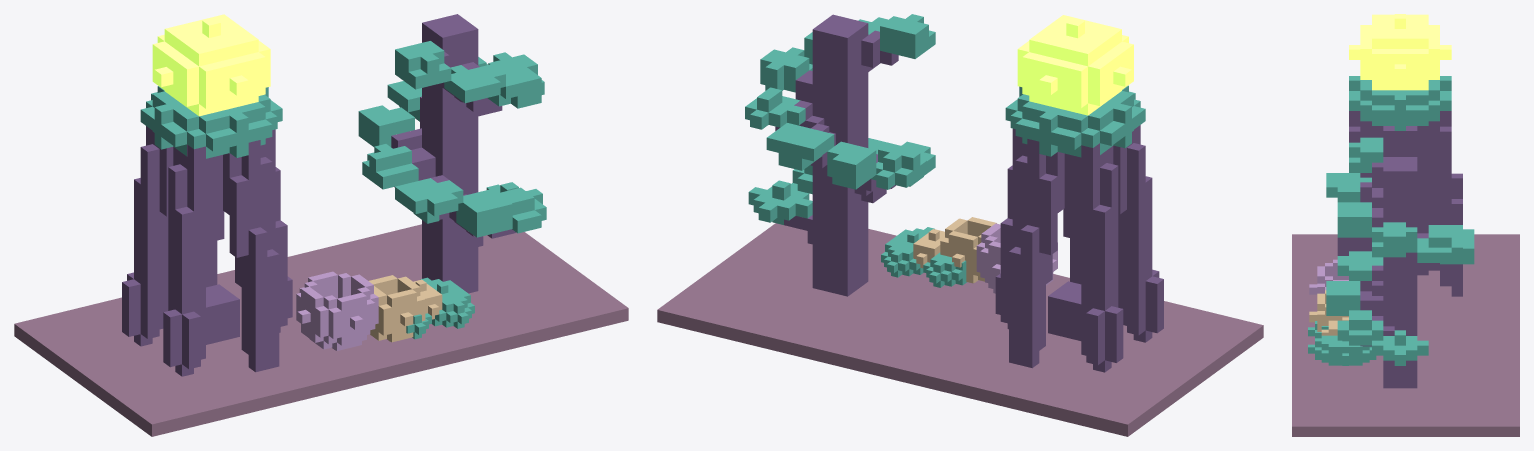
Rendered from alien-biosphere-lantern-grove-6d9739a5-starter-scene__22834.glb.
The picture shows the model from 3 angles, left to right: view 1: azimuth 30°, elevation 25°; view 2: azimuth 150°, elevation 25°; view 3: azimuth 270°, elevation 25°; orthographic projection. The views are drawn at different scales.
Parts seen in each view (by area): view 1: 002-cage-tree/0, 000-soil-tile/0, 001-soil-tile/0, 003-spiral-tree/1, 003-spiral-tree/0, 002-cage-tree/2, 002-cage-tree/1, 004-cup-fungus/0, 004-cup-fungus/1, 005-seed-cradle/0, 005-seed-cradle/1; view 2: 002-cage-tree/0, 001-soil-tile/0, 000-soil-tile/0, 003-spiral-tree/0, 003-spiral-tree/1, 002-cage-tree/2, 002-cage-tree/1, 005-seed-cradle/0, 004-cup-fungus/1, 004-cup-fungus/0, 005-seed-cradle/1; view 3: 001-soil-tile/0, 003-spiral-tree/1, 000-soil-tile/0, 003-spiral-tree/0, 002-cage-tree/0, 002-cage-tree/2, 002-cage-tree/1, 005-seed-cradle/0, 004-cup-fungus/0, 004-cup-fungus/1, 005-seed-cradle/1.
Boxes of the visible parts, <box> form: 002-cage-tree/0: <box>122,126,292,376</box>; 000-soil-tile/0: <box>14,270,390,436</box>; 001-soil-tile/0: <box>287,224,628,378</box>; 003-spiral-tree/1: <box>358,41,546,237</box>; 003-spiral-tree/0: <box>391,14,515,293</box>; 002-cage-tree/2: <box>152,14,270,116</box>; 002-cage-tree/1: <box>140,86,282,158</box>; 004-cup-fungus/0: <box>296,271,378,350</box>; 004-cup-fungus/1: <box>369,275,425,342</box>; 005-seed-cradle/0: <box>406,277,474,339</box>; 005-seed-cradle/1: <box>413,279,442,319</box>; 002-cage-tree/0: <box>995,125,1163,372</box>; 001-soil-tile/0: <box>657,223,993,379</box>; 000-soil-tile/0: <box>892,274,1263,436</box>; 003-spiral-tree/0: <box>775,14,898,296</box>; 003-spiral-tree/1: <box>745,14,935,224</box>; 002-cage-tree/2: <box>1017,15,1133,115</box>; 002-cage-tree/1: <box>1005,85,1145,157</box>; 005-seed-cradle/0: <box>881,227,966,287</box>; 004-cup-fungus/1: <box>940,217,996,283</box>; 004-cup-fungus/0: <box>976,223,1057,293</box>; 005-seed-cradle/1: <box>913,229,944,268</box>; 001-soil-tile/0: <box>1292,330,1519,436</box>; 003-spiral-tree/1: <box>1326,137,1474,365</box>; 000-soil-tile/0: <box>1292,234,1519,330</box>; 003-spiral-tree/0: <box>1360,157,1439,388</box>; 002-cage-tree/0: <box>1337,111,1462,296</box>; 002-cage-tree/2: <box>1349,14,1451,90</box>; 002-cage-tree/1: <box>1349,76,1451,130</box>; 005-seed-cradle/0: <box>1308,321,1376,365</box>; 004-cup-fungus/0: <box>1309,259,1348,294</box>; 004-cup-fungus/1: <box>1309,290,1348,331</box>; 005-seed-cradle/1: <box>1321,317,1348,335</box>.
Bounding box in the file's own units: 8 × 5.4 × 4.
